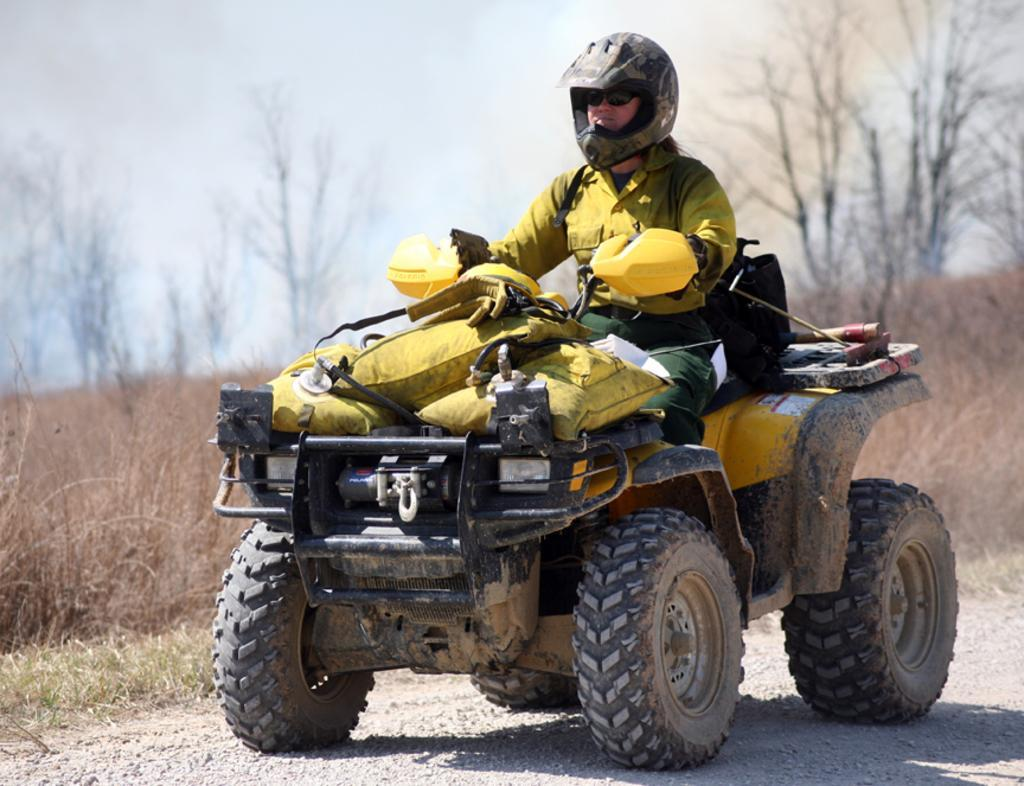helmet: (554, 30, 680, 171)
